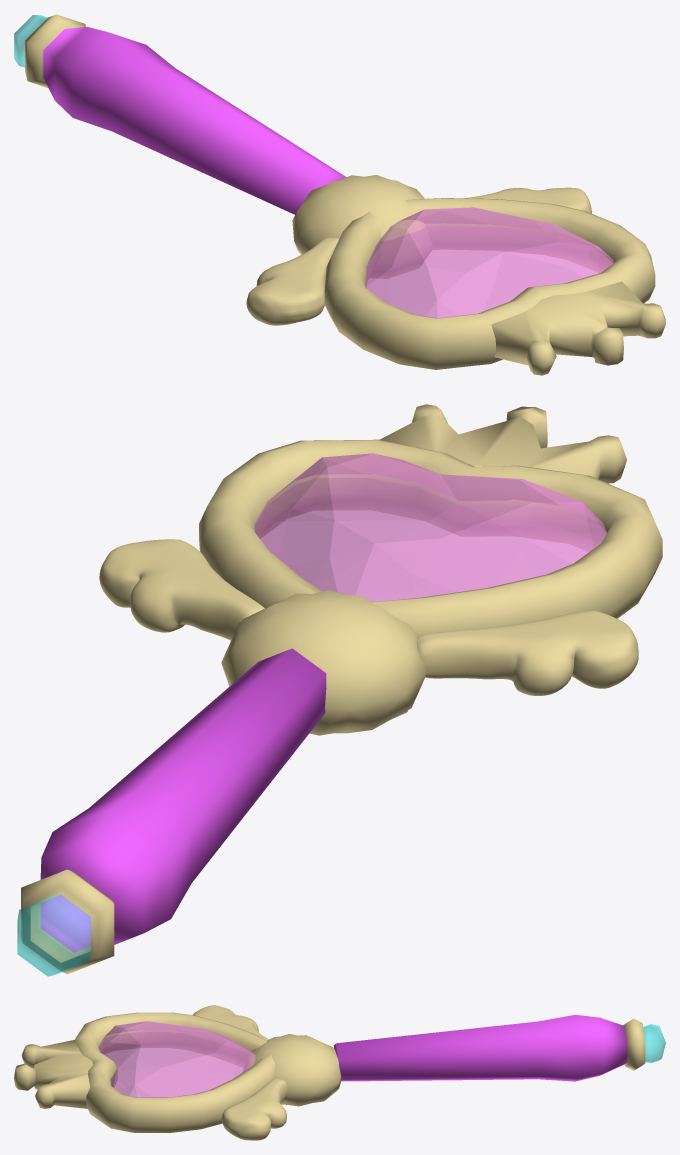
File: magicStick.glb
3 renders of one model, top to bottom at view 1: azimuth 30°, elevation 25°; view 2: azimuth 150°, elevation 25°; view 3: azimuth 270°, elevation 25°, orthographic. The views are drawn at different scales.
Visible parts, largest first — view 1: Mother, jewerl; view 2: Mother, jewerl; view 3: Mother, jewerl.
Boxes of the visible parts, x1,y1,x2,y2 form: Mother: [14, 14, 665, 375]; jewerl: [365, 207, 613, 318]; Mother: [17, 404, 662, 976]; jewerl: [254, 453, 606, 601]; Mother: [14, 1005, 665, 1140]; jewerl: [98, 1021, 255, 1097].
Size of the model in its own units: 0.8165 by 0.2111 by 1.87.
